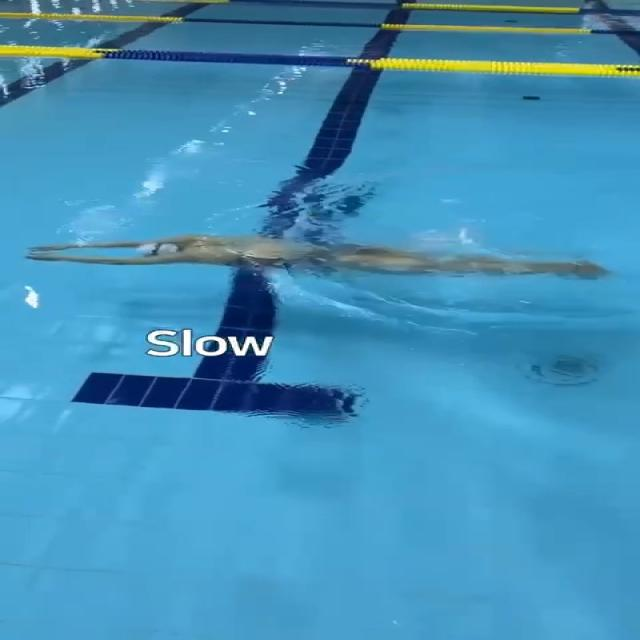Swimming: (21, 227, 624, 287)
